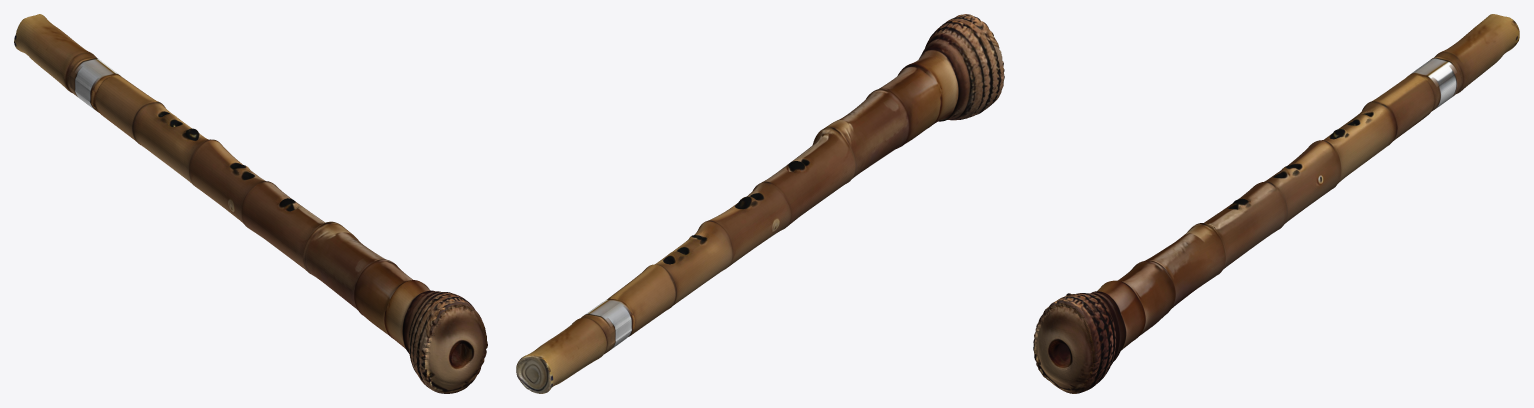
File: dongxiao.gltf
3 views of the same model, side by side, from view 1: azimuth 30°, elevation 25°; view 2: azimuth 150°, elevation 25°; view 3: azimuth 330°, elevation 25° (orthographic).
Parts seen in each view (by area): view 1: tripo_node_f34a1252-7e99-43bd-aa52-f17bde2ec29a; view 2: tripo_node_f34a1252-7e99-43bd-aa52-f17bde2ec29a; view 3: tripo_node_f34a1252-7e99-43bd-aa52-f17bde2ec29a.
Boxes of the visible parts, x1=… form: tripo_node_f34a1252-7e99-43bd-aa52-f17bde2ec29a: x1=14, y1=14, x2=487, y2=393; tripo_node_f34a1252-7e99-43bd-aa52-f17bde2ec29a: x1=516, y1=14, x2=1004, y2=393; tripo_node_f34a1252-7e99-43bd-aa52-f17bde2ec29a: x1=1033, y1=14, x2=1519, y2=393.
Bounding box in the file's own units: 8.68 × 11.83 × 100.
1 material, 1 textured.
